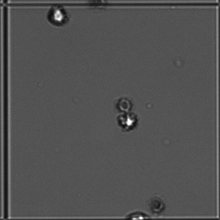Dead Cell: (146, 194, 167, 215), (116, 95, 135, 114)
Living Cell: (45, 5, 70, 30), (116, 110, 141, 135)
